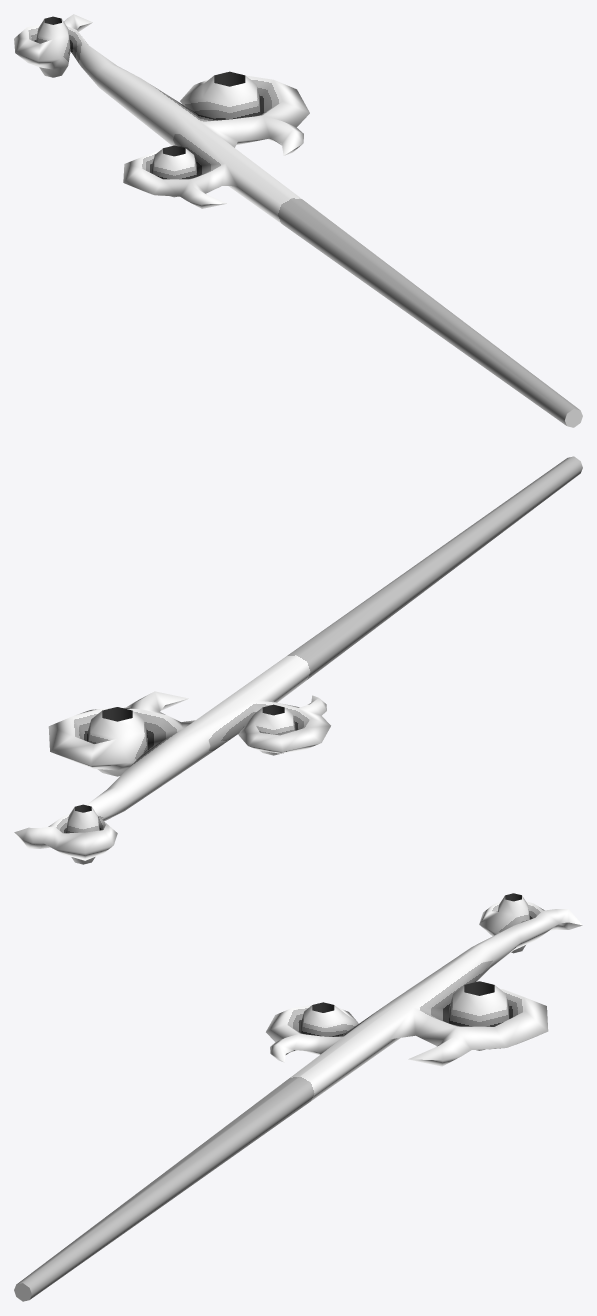
Rendered from WpnToonLinkTakt.obj.
3 views of the same model, one above another, from view 1: azimuth 30°, elevation 25°; view 2: azimuth 150°, elevation 25°; view 3: azimuth 330°, elevation 25° (orthographic).
Visible parts, largest first — view 1: polygon0; view 2: polygon0; view 3: polygon0.
Part boxes in pixels (x1=…): polygon0: x1=14, y1=14, x2=582, y2=427; polygon0: x1=14, y1=456, x2=582, y2=864; polygon0: x1=14, y1=893, x2=582, y2=1301.
Bounding box in the file's own units: 1.55 × 0.3686 × 6.34.
1 material, 1 textured.
